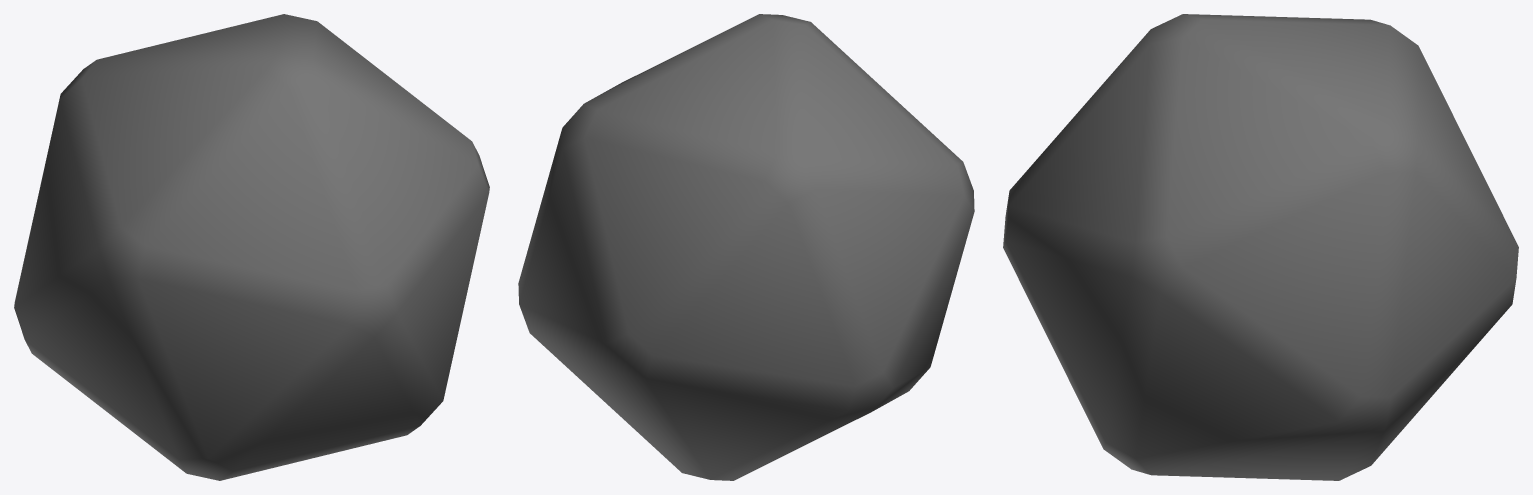
File: deformedRock-01_col.fbx
The picture shows the model from 3 angles, left to right: view 1: azimuth 30°, elevation 25°; view 2: azimuth 150°, elevation 25°; view 3: azimuth 270°, elevation 25°; orthographic projection. The views are drawn at different scales.
Parts seen in each view (by area): view 1: deformedRock-01.col; view 2: deformedRock-01.col; view 3: deformedRock-01.col.
Boxes of the visible parts, x1,y1,x2,y2 form: deformedRock-01.col: (14,14,489,480); deformedRock-01.col: (518,14,974,480); deformedRock-01.col: (1003,14,1518,480).
Size of the model in its own units: 0.0601 by 0.0654 by 0.0672.
1 material, 1 textured.
